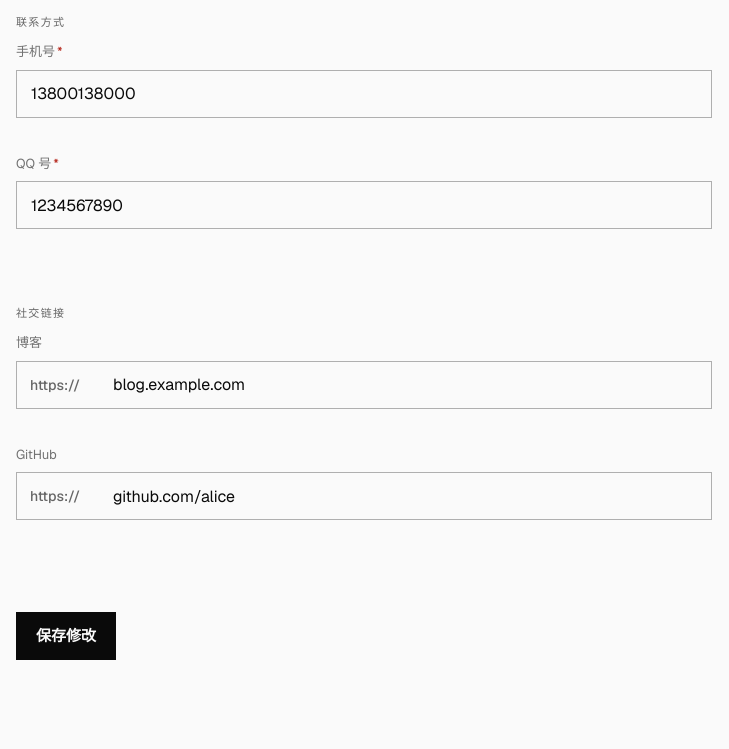
Scenario: EditPage › shows API error on submit failure
(page scrolled)
Click the button "保存修改" at {"x": 66, "y": 636}, box x1=16 y1=612 x2=116 y2=660
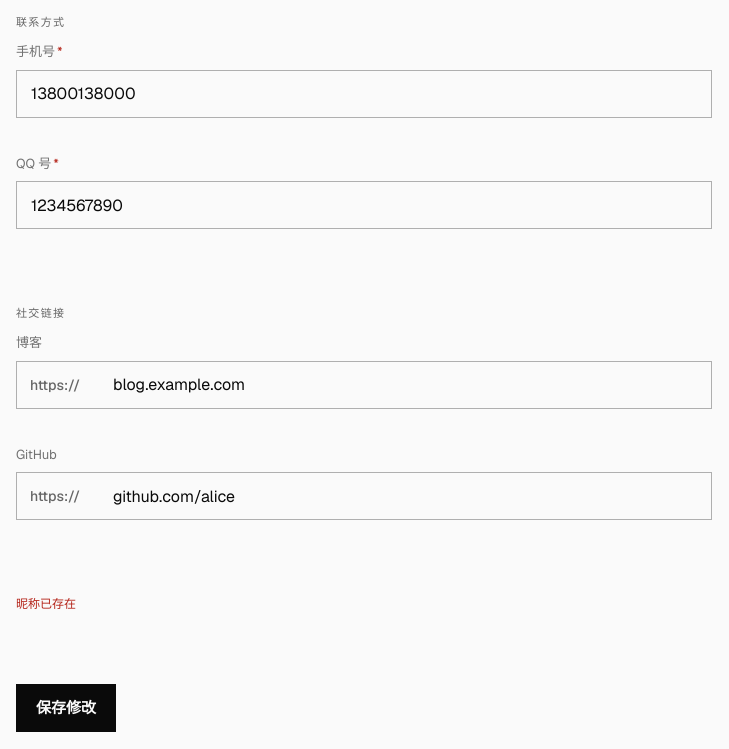
Expected: the text "昵称已存在" is shown, x1=16 y1=596 x2=76 y2=612
